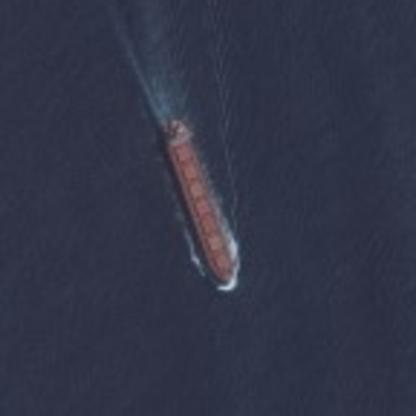ship: (146, 114, 262, 296)
